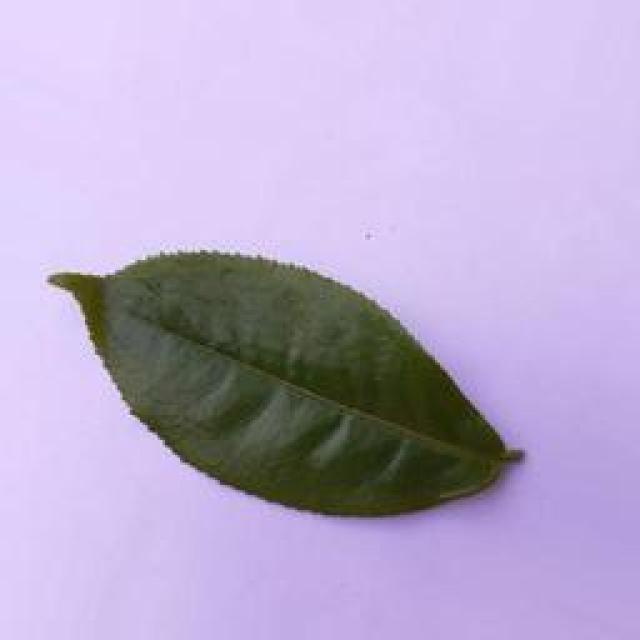Healthy: (45, 247, 560, 514)
